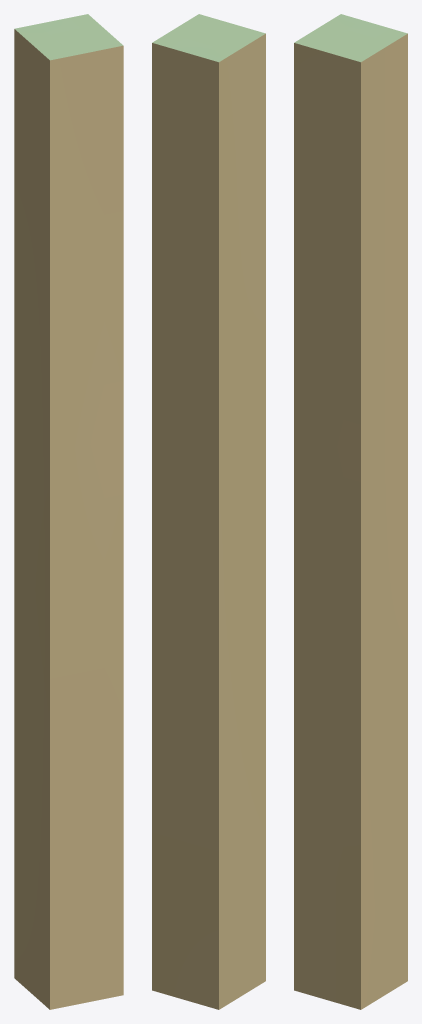
The model's file is Blocks-145.fbx.
3 views of the same model, side by side, from view 1: azimuth 30°, elevation 25°; view 2: azimuth 150°, elevation 25°; view 3: azimuth 330°, elevation 25° (orthographic).
Visible parts, largest first — view 1: Blocks-145; view 2: Blocks-145; view 3: Blocks-145.
Boxes of the visible parts, bbox=[...] form: Blocks-145: bbox=[14, 14, 123, 1009]; Blocks-145: bbox=[152, 14, 265, 1009]; Blocks-145: bbox=[294, 14, 407, 1009].
Bounding box in the file's own units: 2683 × 31981 × 2722.
